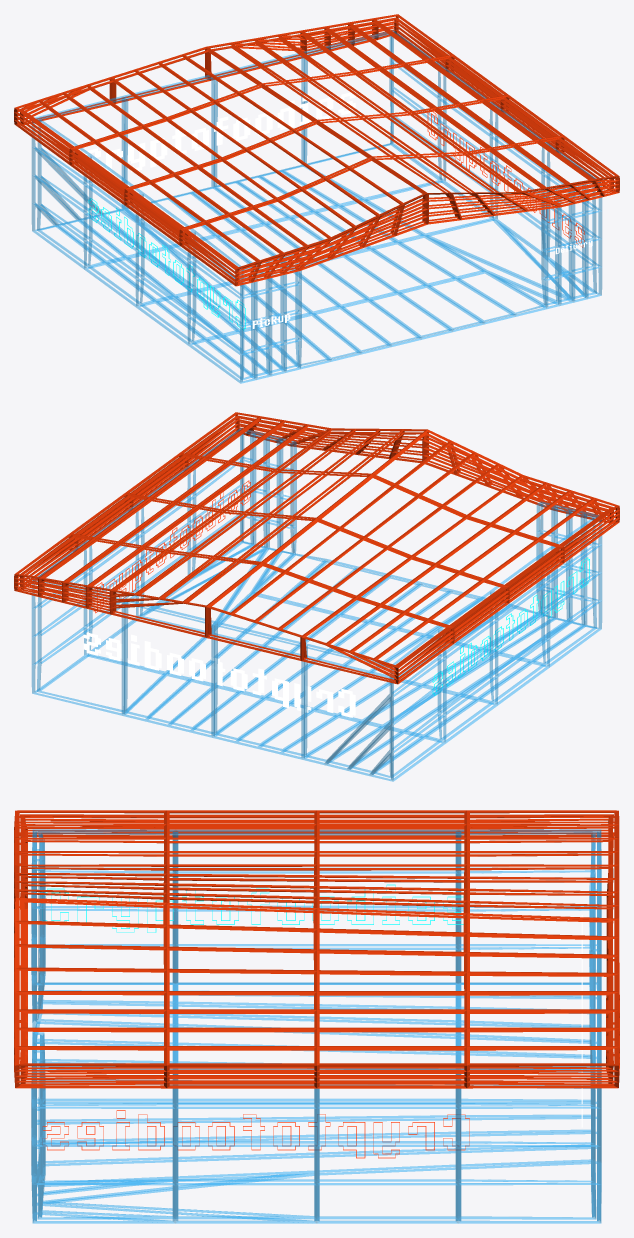
Rendered from building-again-3.gltf.
The picture shows the model from 3 angles, top to bottom: view 1: azimuth 30°, elevation 25°; view 2: azimuth 150°, elevation 25°; view 3: azimuth 270°, elevation 25°; orthographic projection. The views are drawn at different scales.
Visible parts, largest first — view 1: Cube, Text.002, Text.003, Text.004; view 2: Cube, Text.002, Text.003, Text.004; view 3: Cube, Text.004, Text.003.
Part boxes in pixels (x1=…): Cube: x1=14, y1=14, x2=619, y2=383; Text.002: x1=84, y1=92, x2=355, y2=175; Text.003: x1=88, y1=198, x2=245, y2=330; Text.004: x1=427, y1=110, x2=584, y2=247; Cube: x1=14, y1=412, x2=619, y2=781; Text.002: x1=83, y1=632, x2=355, y2=717; Text.003: x1=432, y1=557, x2=589, y2=695; Text.004: x1=93, y1=480, x2=250, y2=613; Cube: x1=14, y1=810, x2=619, y2=1223; Text.004: x1=43, y1=1110, x2=469, y2=1158; Text.003: x1=43, y1=884, x2=463, y2=932.
Bounding box in the file's own units: 14.34 × 5.38 × 14.34.
